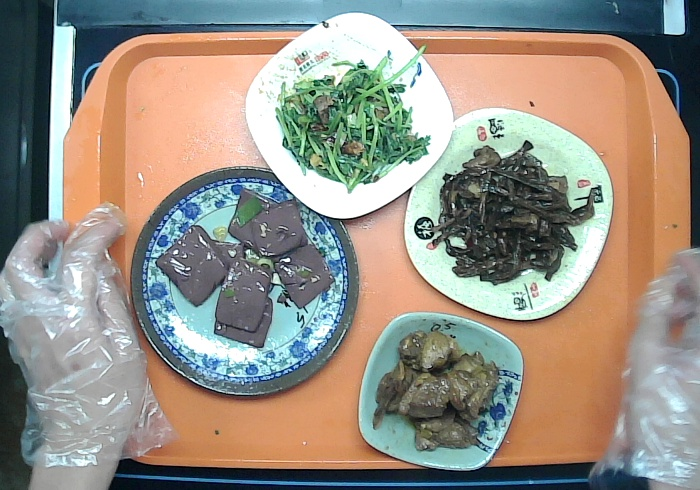NLDX-Bai_Se_Xiao_Fang_Die: (243, 10, 451, 228)
NLDX-Fu_Zi_Fang_Die: (398, 110, 618, 322)
NLDX-Qing_Hua_Xiao_Fang_Die: (352, 307, 521, 490)
NLDX-Qing_Hua_Yuan_Die: (118, 168, 354, 404)
